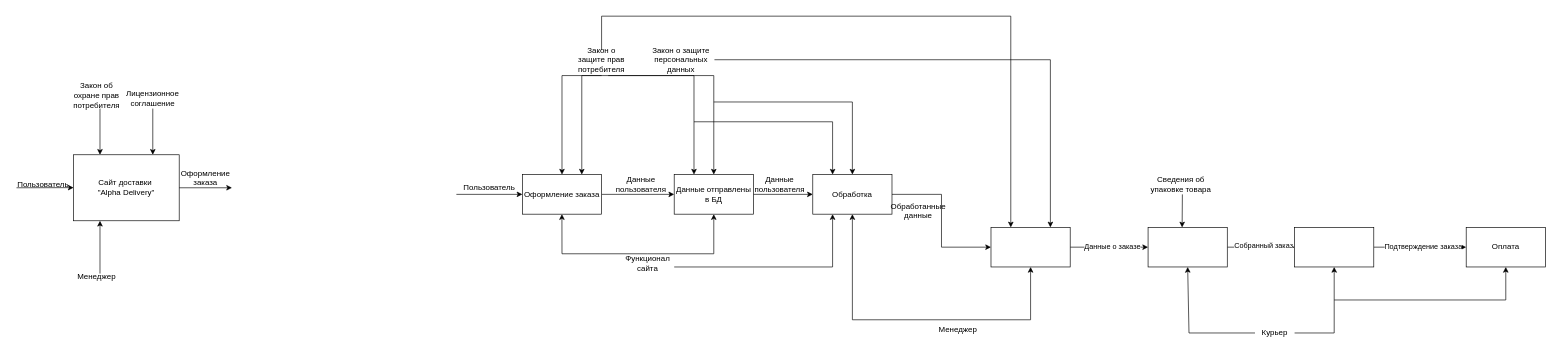
The diagram is 1557 pixels wide and 354 high, and some of its shapes have lost their labels. The centre of each missing label's shape, as x and y in pixels:
"Доставка" belongs at (1334,247).
"Передача данных курьеру" belongs at (1030,247).
"Сборка" belongs at (1187,247).
